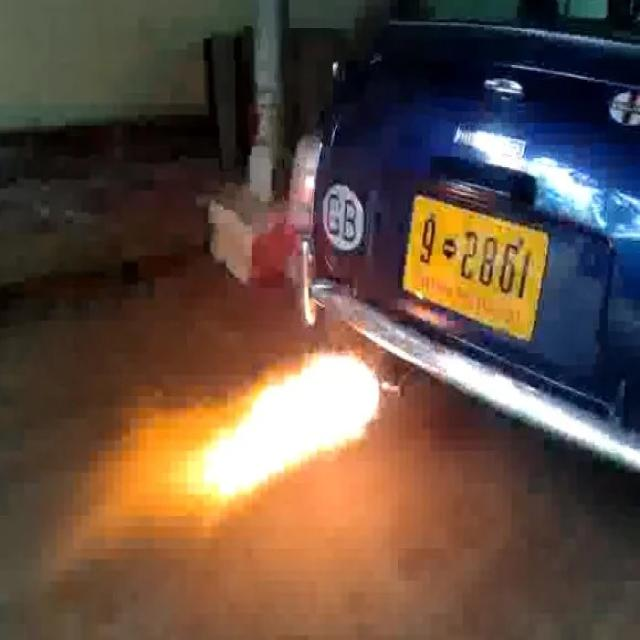fire: (55, 351, 378, 548)
